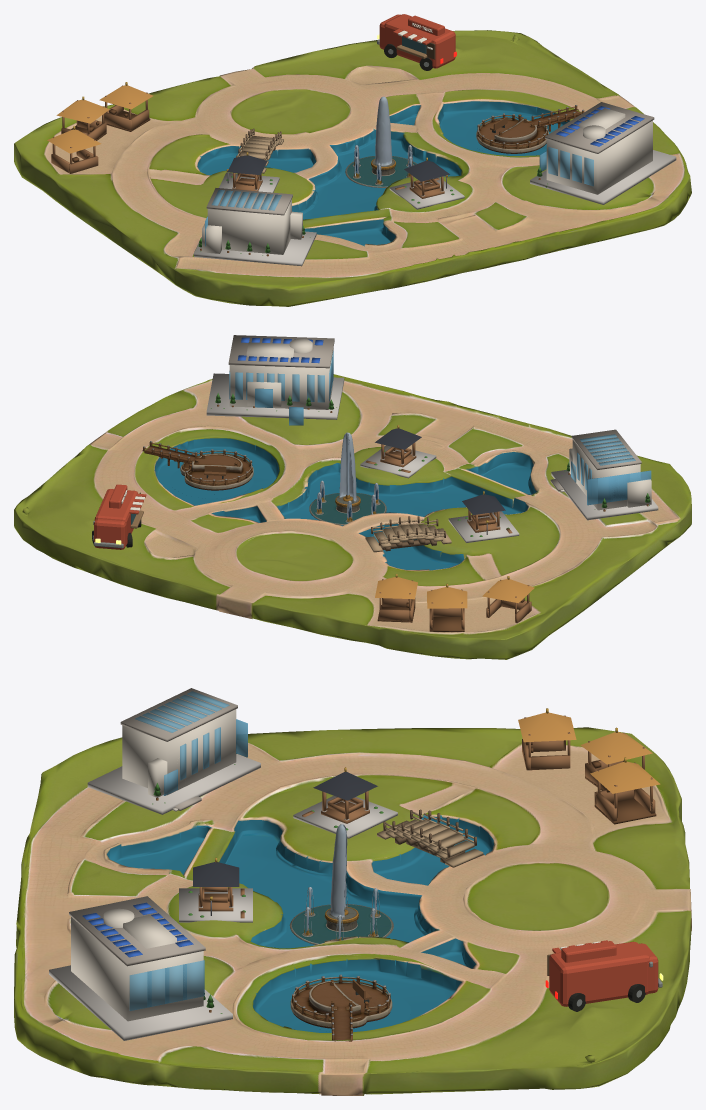
Rendered from sejong-lake-park-kh-0Y-_v.glb.
3 views of the same model, one above another, from view 1: azimuth 30°, elevation 25°; view 2: azimuth 150°, elevation 25°; view 3: azimuth 270°, elevation 25° (orthographic). The views are drawn at different scales.
Parts seen in each view (by area): view 1: tripo_node_555ef2c0-d1e2-4bd6-94e2-41ede8e5edea, ART_HALL, ARTS_CENTER, Wheel hub.001, tripo_node_f3fdfc08-9e54-4142-a2c3-7cc44e2c8600, tripo_node_6d91a6fd-8176-4c44-b081-87d8def18e48, GAZEBO_RIGHT, STALL_LEFT_02, GAZEBO_LEFT, STALL_RIGHT_01, STALL_LEFT_01, BRIDGE; view 2: tripo_node_555ef2c0-d1e2-4bd6-94e2-41ede8e5edea, ART_HALL, ARTS_CENTER, tripo_node_6d91a6fd-8176-4c44-b081-87d8def18e48, tripo_node_f3fdfc08-9e54-4142-a2c3-7cc44e2c8600, Wheel hub.001, GAZEBO_LEFT, GAZEBO_RIGHT, BRIDGE, STALL_LEFT_02, STALL_LEFT_01, STALL_RIGHT_01 (+1 smaller); view 3: tripo_node_555ef2c0-d1e2-4bd6-94e2-41ede8e5edea, ART_HALL, ARTS_CENTER, Wheel hub.001, tripo_node_6d91a6fd-8176-4c44-b081-87d8def18e48, tripo_node_f3fdfc08-9e54-4142-a2c3-7cc44e2c8600, GAZEBO_RIGHT, GAZEBO_LEFT, STALL_LEFT_02, BRIDGE, STALL_RIGHT_01, STALL_LEFT_01 (+1 smaller).
Part boxes in pixels (x1,y1,x2,y2): tripo_node_555ef2c0-d1e2-4bd6-94e2-41ede8e5edea: [14, 30, 691, 306]; ART_HALL: [530, 102, 676, 204]; ARTS_CENTER: [194, 188, 316, 266]; Wheel hub.001: [377, 14, 456, 70]; tripo_node_f3fdfc08-9e54-4142-a2c3-7cc44e2c8600: [476, 105, 584, 153]; tripo_node_6d91a6fd-8176-4c44-b081-87d8def18e48: [345, 96, 416, 187]; GAZEBO_RIGHT: [389, 157, 464, 209]; STALL_LEFT_02: [99, 82, 153, 131]; GAZEBO_LEFT: [219, 152, 279, 192]; STALL_RIGHT_01: [47, 126, 101, 173]; STALL_LEFT_01: [56, 96, 109, 140]; BRIDGE: [236, 128, 283, 173]; tripo_node_555ef2c0-d1e2-4bd6-94e2-41ede8e5edea: [14, 374, 691, 659]; ART_HALL: [206, 335, 344, 425]; ARTS_CENTER: [550, 429, 658, 520]; tripo_node_6d91a6fd-8176-4c44-b081-87d8def18e48: [309, 432, 386, 525]; tripo_node_f3fdfc08-9e54-4142-a2c3-7cc44e2c8600: [142, 441, 253, 490]; Wheel hub.001: [92, 484, 146, 549]; GAZEBO_LEFT: [448, 491, 519, 542]; GAZEBO_RIGHT: [360, 425, 436, 478]; BRIDGE: [365, 516, 451, 552]; STALL_LEFT_02: [375, 574, 417, 622]; STALL_LEFT_01: [427, 583, 467, 631]; STALL_RIGHT_01: [482, 576, 534, 622]; tripo_node_555ef2c0-d1e2-4bd6-94e2-41ede8e5edea: [14, 727, 691, 1095]; ART_HALL: [49, 896, 232, 1040]; ARTS_CENTER: [87, 688, 260, 814]; Wheel hub.001: [545, 940, 663, 1011]; tripo_node_6d91a6fd-8176-4c44-b081-87d8def18e48: [289, 824, 393, 944]; tripo_node_f3fdfc08-9e54-4142-a2c3-7cc44e2c8600: [290, 974, 392, 1041]; GAZEBO_RIGHT: [179, 857, 252, 922]; GAZEBO_LEFT: [293, 767, 397, 838]; STALL_LEFT_02: [590, 757, 660, 824]; BRIDGE: [377, 809, 483, 867]; STALL_RIGHT_01: [518, 708, 576, 770]; STALL_LEFT_01: [580, 727, 652, 790].
Bounding box in the file's own units: 0.9778 × 0.1499 × 0.8203.
Materials: 43 (29 with a texture image).
